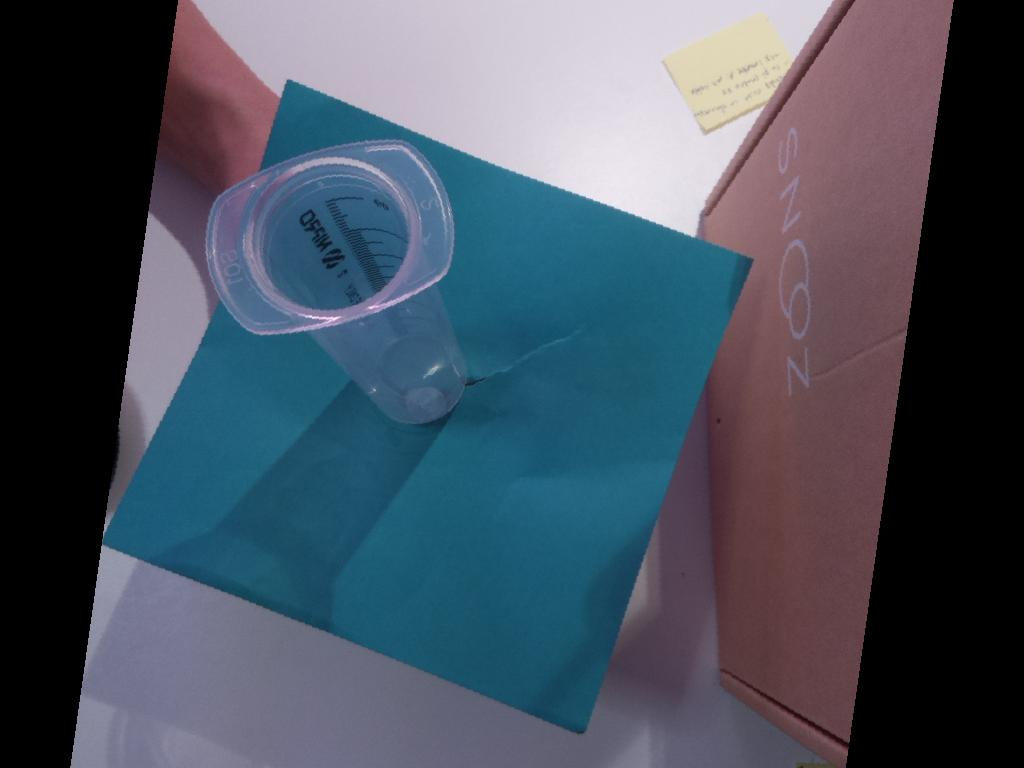clean: (205, 138, 456, 337)
